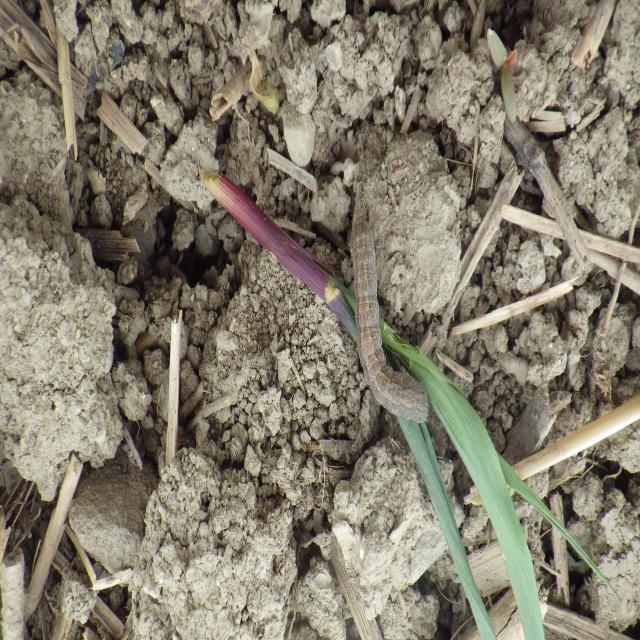black cutworm: (343, 225, 441, 433)
